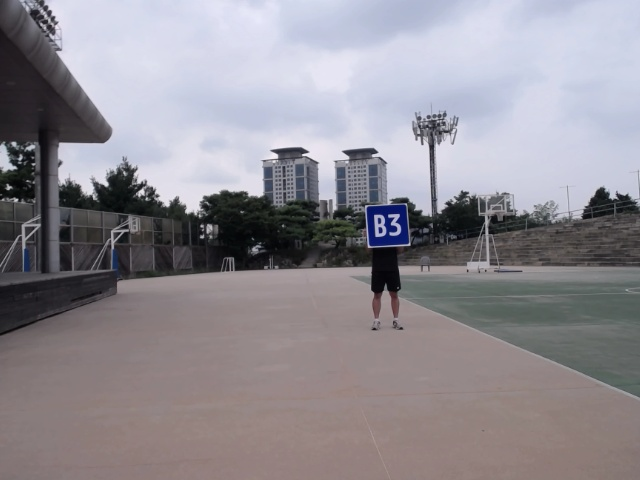delivery_b3: (364, 204, 412, 247)
